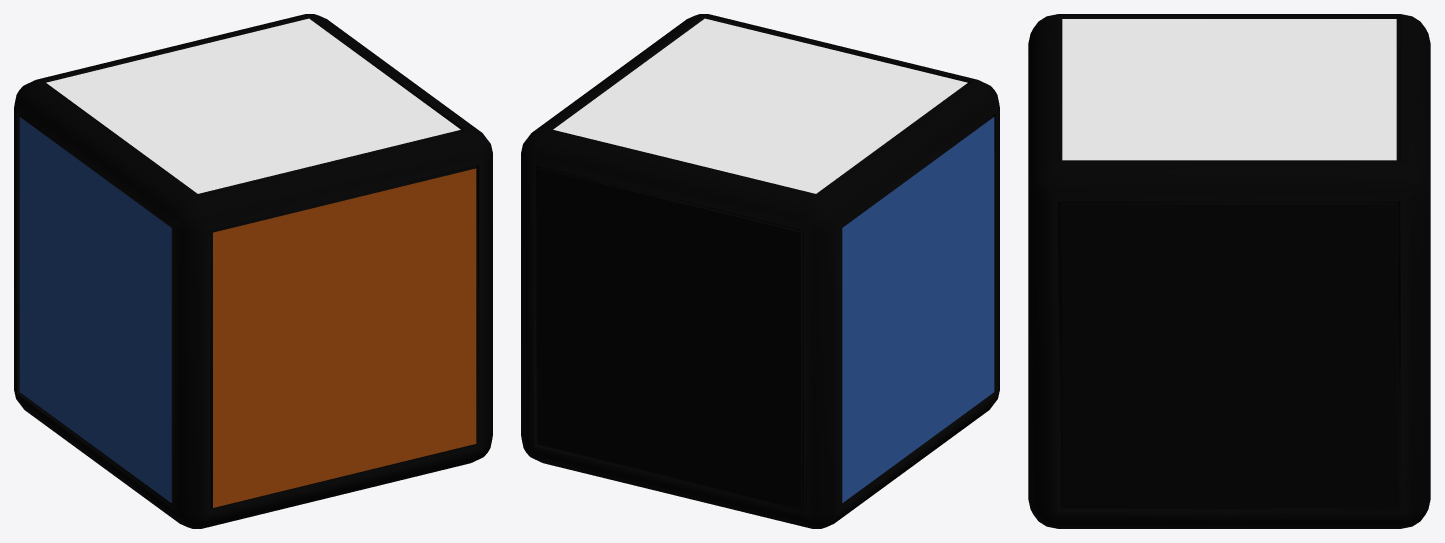
The model's file is oneCubeObjToOrg13.gltf.
3 renders of one model, left to right at view 1: azimuth 30°, elevation 25°; view 2: azimuth 150°, elevation 25°; view 3: azimuth 270°, elevation 25°, orthographic. The views are drawn at different scales.
Visible parts, largest first — view 1: Cube.004; view 2: Cube.004; view 3: Cube.004.
Part boxes in pixels (box(x1,y1,x2,y2)): Cube.004: box(14, 14, 492, 528); Cube.004: box(521, 14, 999, 528); Cube.004: box(1028, 14, 1430, 528).
Size of the model in its own units: 2 by 2 by 2.
